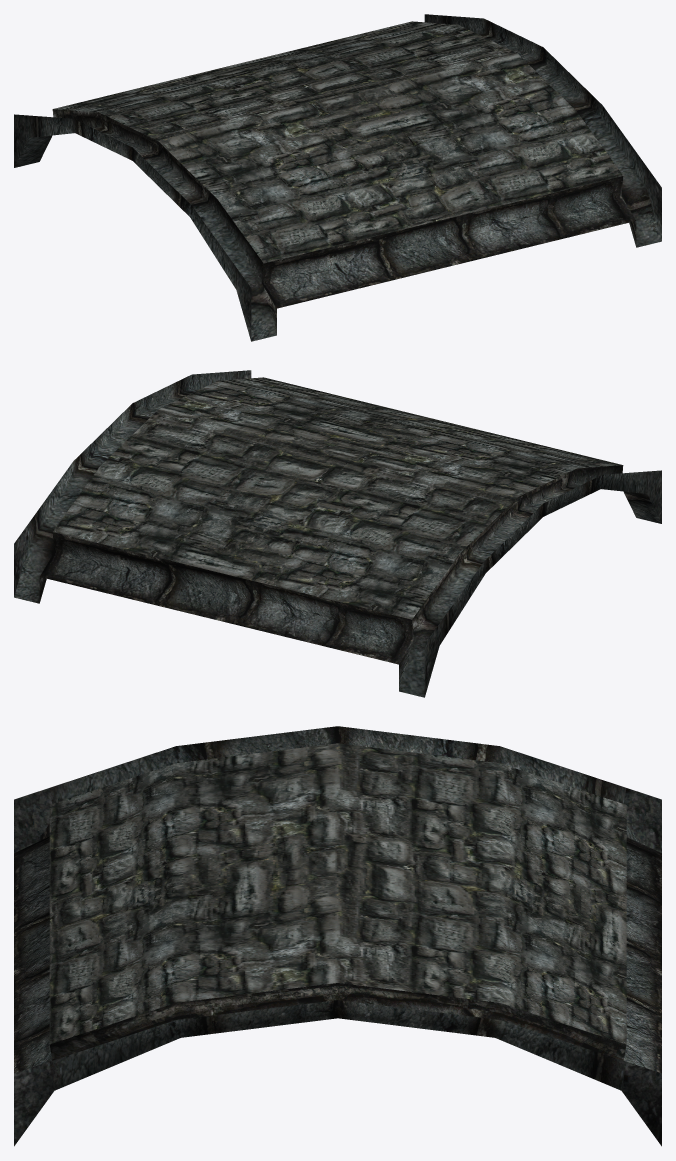
Rendered from corridor02.dae.
The picture shows the model from 3 angles, top to bottom: view 1: azimuth 30°, elevation 25°; view 2: azimuth 150°, elevation 25°; view 3: azimuth 270°, elevation 25°; orthographic projection. The views are drawn at different scales.
Parts seen in each view (by area): view 1: polySurface139, polySurface138; view 2: polySurface139, polySurface138; view 3: polySurface139, polySurface138.
Part boxes in pixels (x1,y1,x2,y2): polySurface139: (53,21,622,263); polySurface138: (14,14,661,341); polySurface139: (53,377,622,619); polySurface138: (14,370,661,697); polySurface139: (49,743,626,1044); polySurface138: (14,726,661,1146).
Size of the model in its own units: 4 by 1 by 4.
